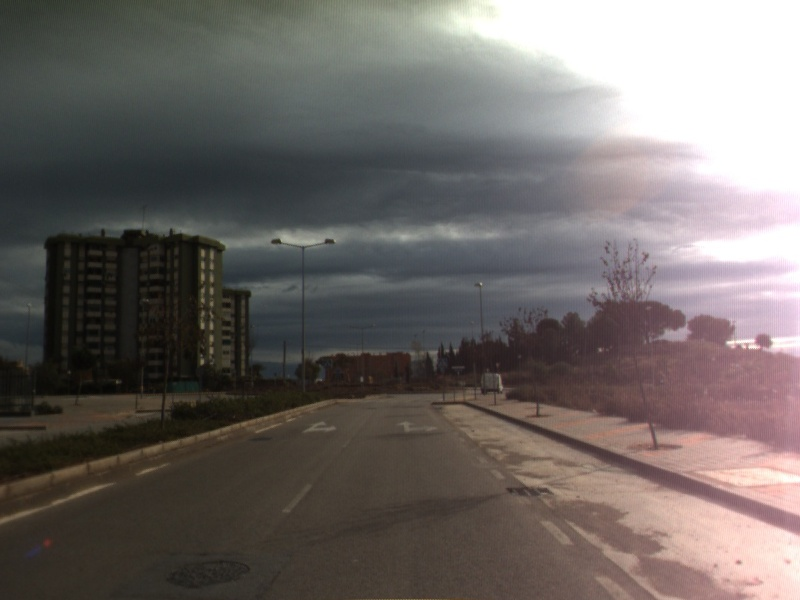STRAIGHT_RIGHT: (394, 419, 440, 434), (299, 419, 338, 435)
